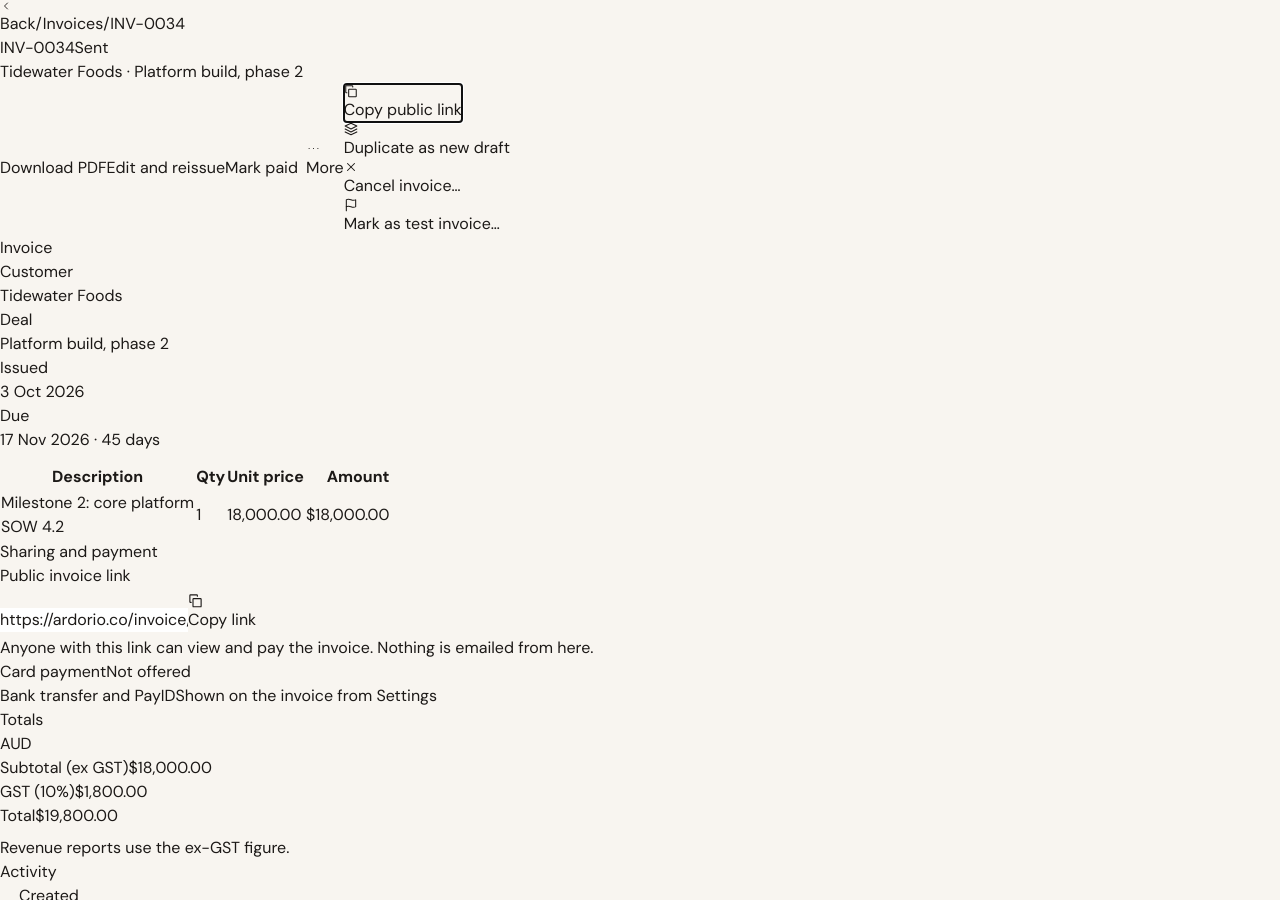
the confirmation dialog › Cancel invoice stays disabled until a reason is chosen
Step 1. Click the menu item "Cancel invoice…" → (402, 179), box left=344, top=160, right=461, bottom=198
(page scrolled)
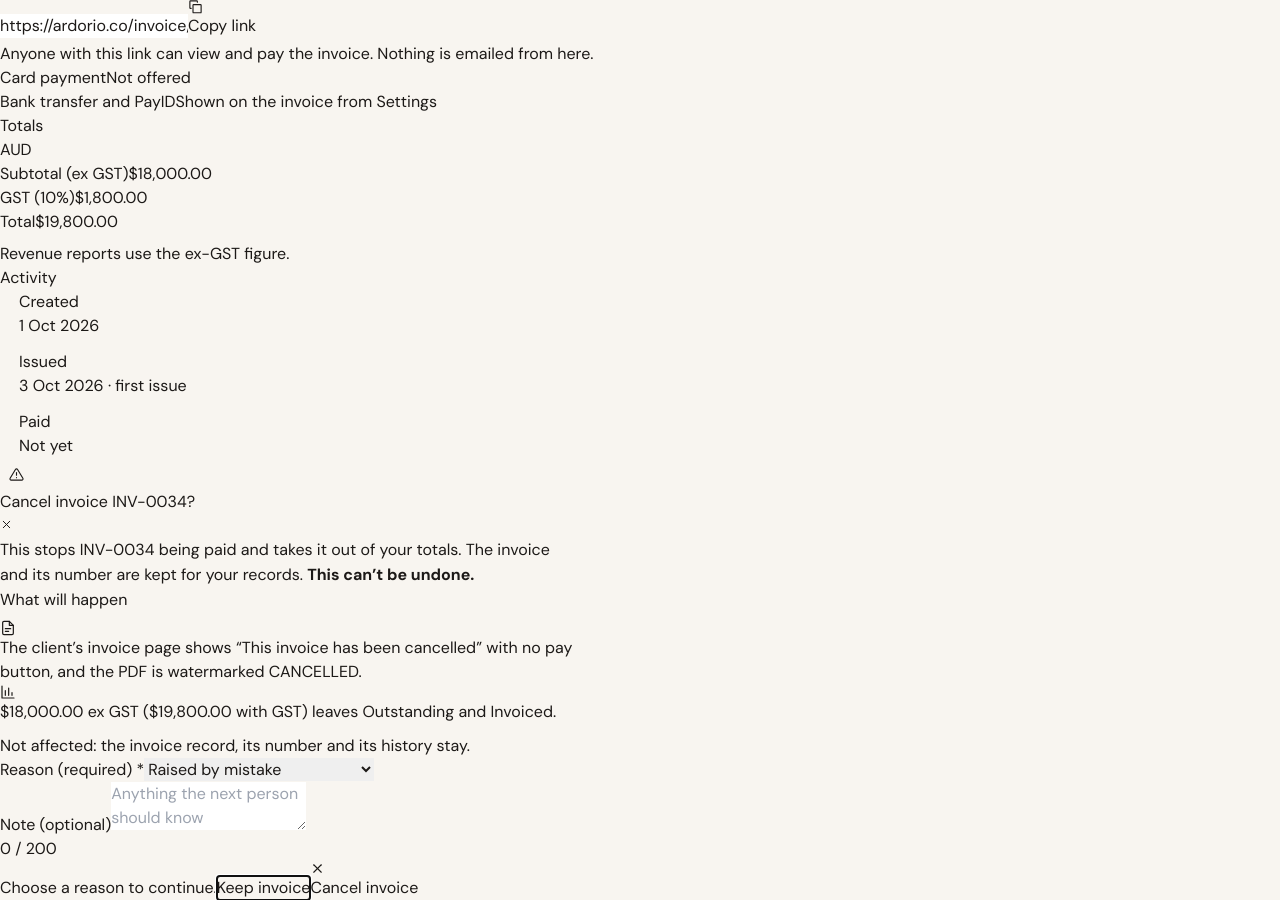
Expected: the dialog shows "Choose a reason to continue.", left=0, top=877, right=217, bottom=898
Step 2. Select "Raised by mistake" in the dropdown labelled "Reason (required) *" → (259, 769), box left=144, top=758, right=374, bottom=781
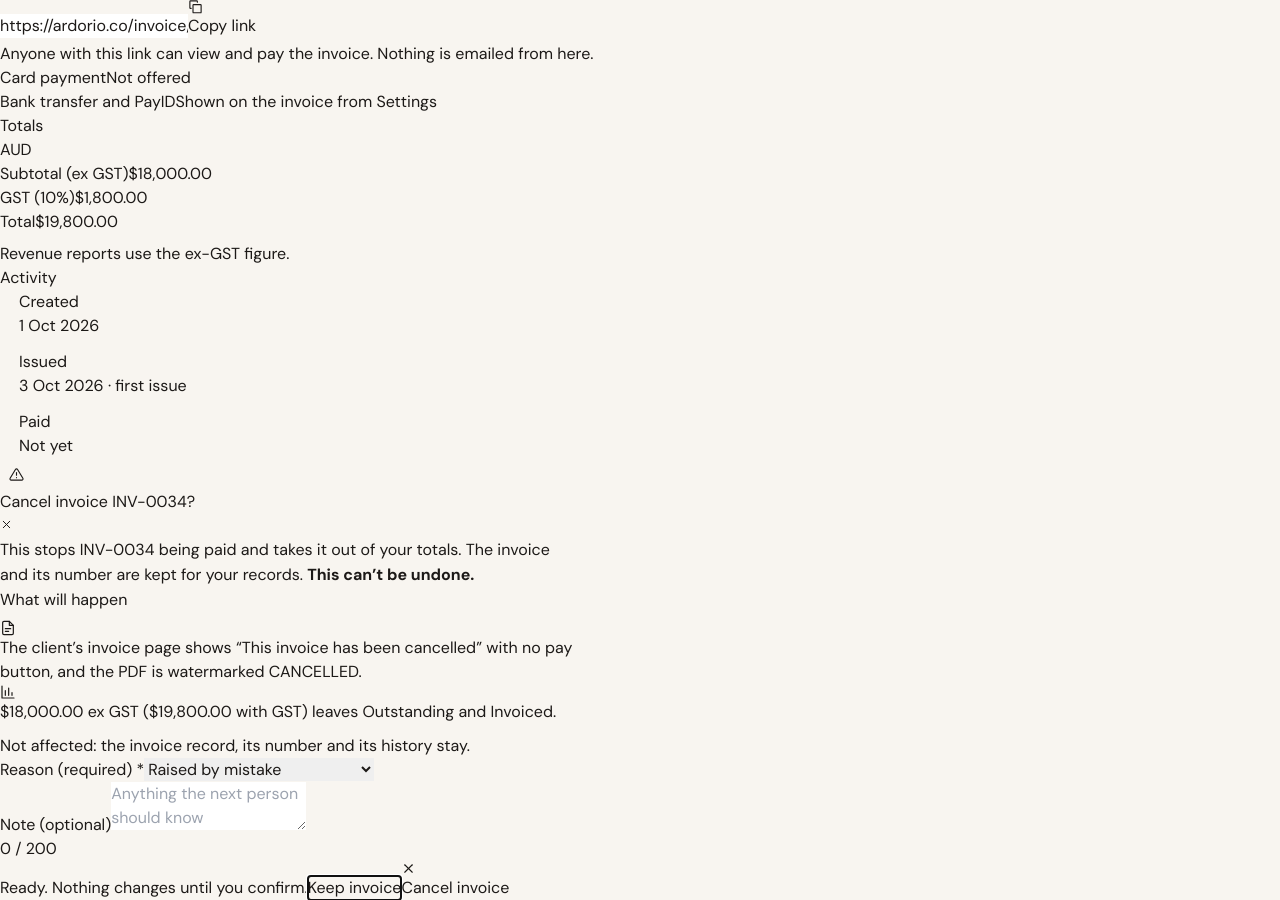
Expected: the dialog shows "Nothing changes until you confirm.", left=0, top=877, right=308, bottom=898
